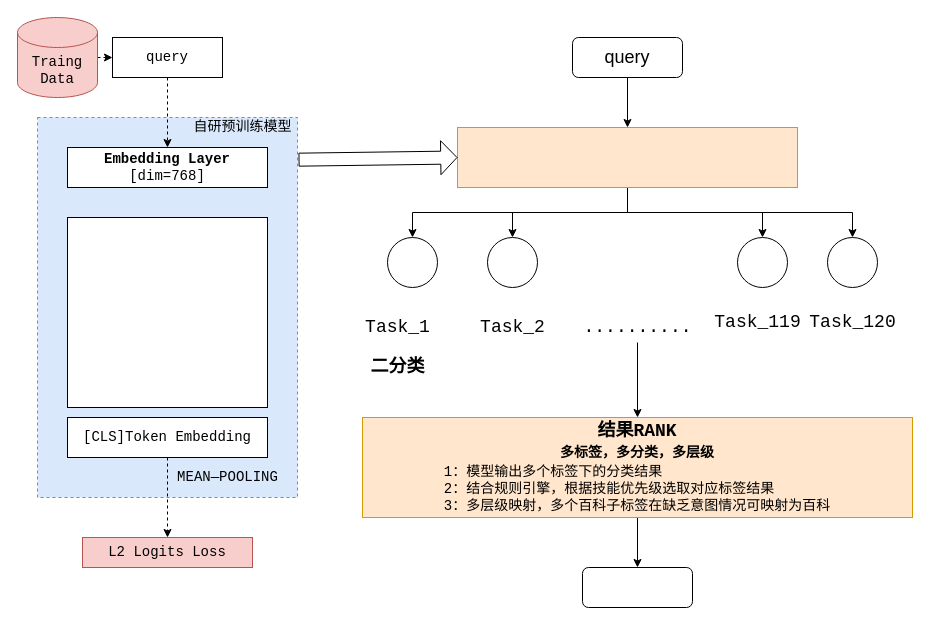
Some shapes in this 930 by 625 pixel diagram are drawn without their labels. The shapes that lost their labels are listed below. From the top down, each one's centre as x and y in pixels, then its label:
pixel 627 157: 句向量表征模型 一次训练，固定表征层，供下游任务使用
pixel 167 312: 12-Layer Transformer Encoder
pixel 637 587: result
